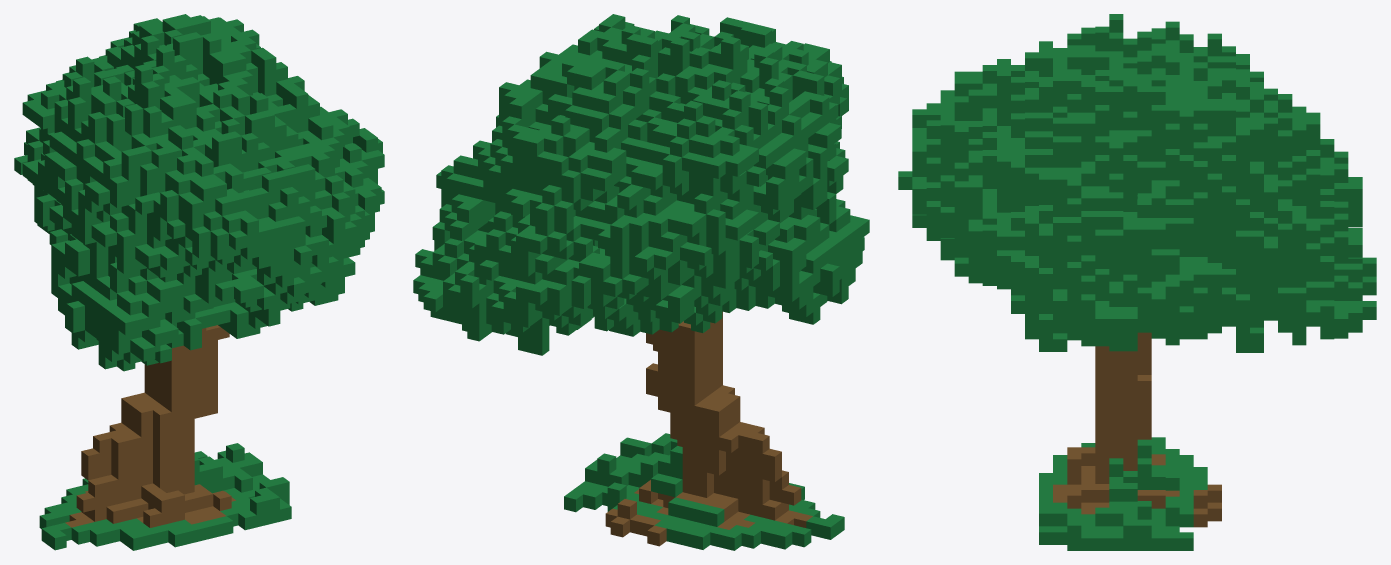
The picture shows the model from 3 angles, left to right: view 1: azimuth 30°, elevation 25°; view 2: azimuth 150°, elevation 25°; view 3: azimuth 270°, elevation 25°; orthographic projection. The views are drawn at different scales.
Parts seen in each view (by area): view 1: _arbol05; view 2: _arbol05; view 3: _arbol05.
Part boxes in pixels (x1=…): _arbol05: x1=14, y1=14, x2=384, y2=550; _arbol05: x1=413, y1=14, x2=869, y2=550; _arbol05: x1=898, y1=14, x2=1376, y2=550.
Bounding box in the file's own units: 270 × 370 × 340.
1 material, 1 textured.
